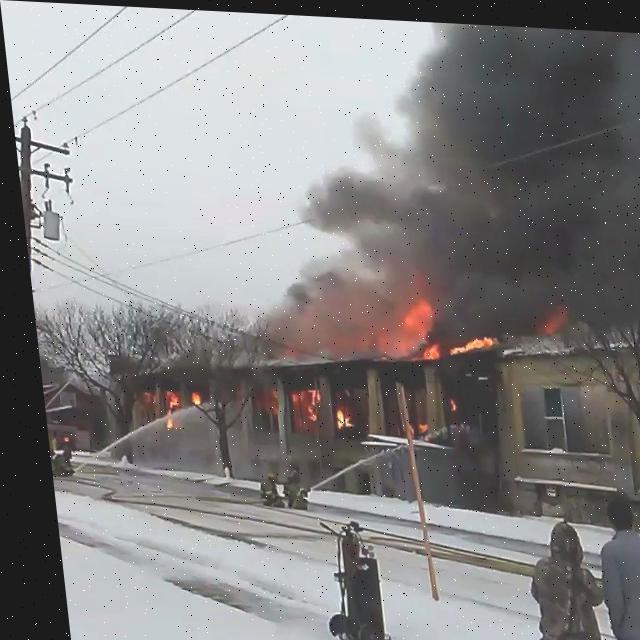Fire: (366, 294, 430, 356), (441, 330, 488, 352), (292, 386, 316, 418), (324, 406, 342, 426), (152, 390, 170, 408), (178, 390, 193, 404)
